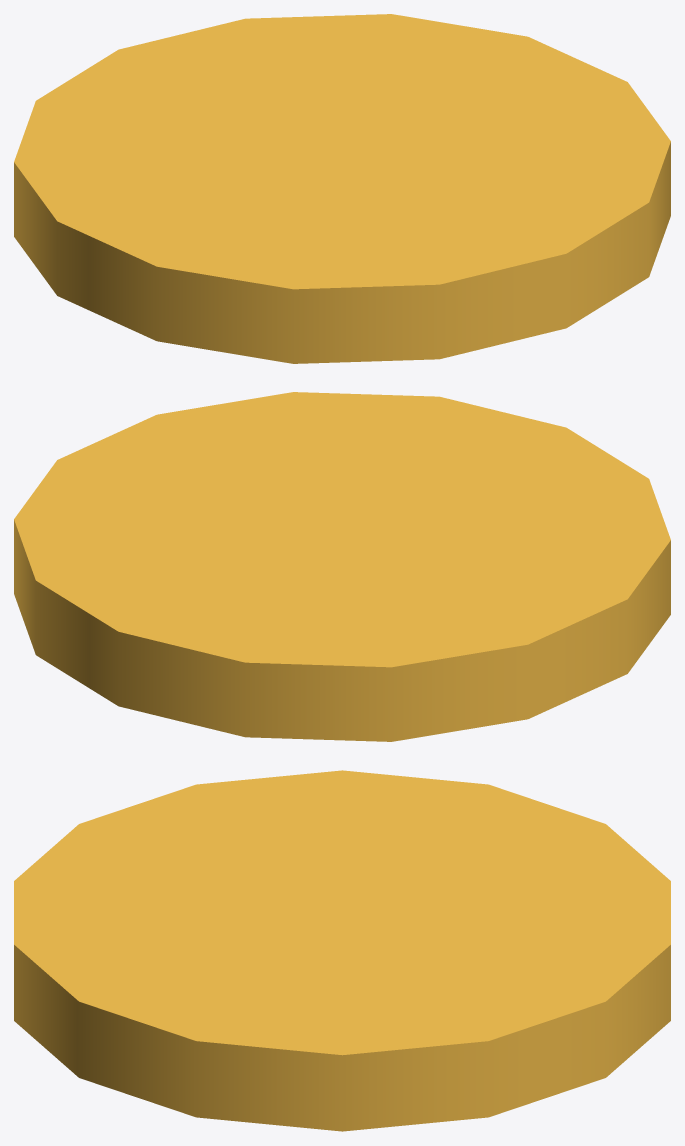
Rendered from coin.obj.
3 renders of one model, top to bottom at view 1: azimuth 30°, elevation 25°; view 2: azimuth 150°, elevation 25°; view 3: azimuth 270°, elevation 25°, orthographic. The views are drawn at different scales.
Parts seen in each view (by area): view 1: coin; view 2: coin; view 3: coin.
Part boxes in pixels (left/top/right/bottom): coin: left=14, top=14, right=670, bottom=363; coin: left=14, top=392, right=670, bottom=741; coin: left=14, top=770, right=670, bottom=1131.
Bounding box in the file's own units: 0.024 × 0.003 × 0.0234.
